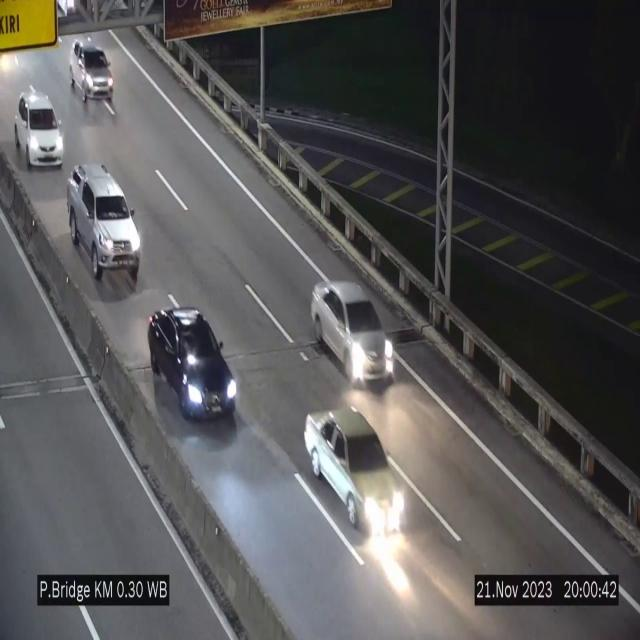Car: (304, 409, 405, 531), (148, 306, 239, 418), (68, 162, 140, 287), (311, 282, 395, 382), (15, 91, 63, 169), (70, 35, 114, 110)
